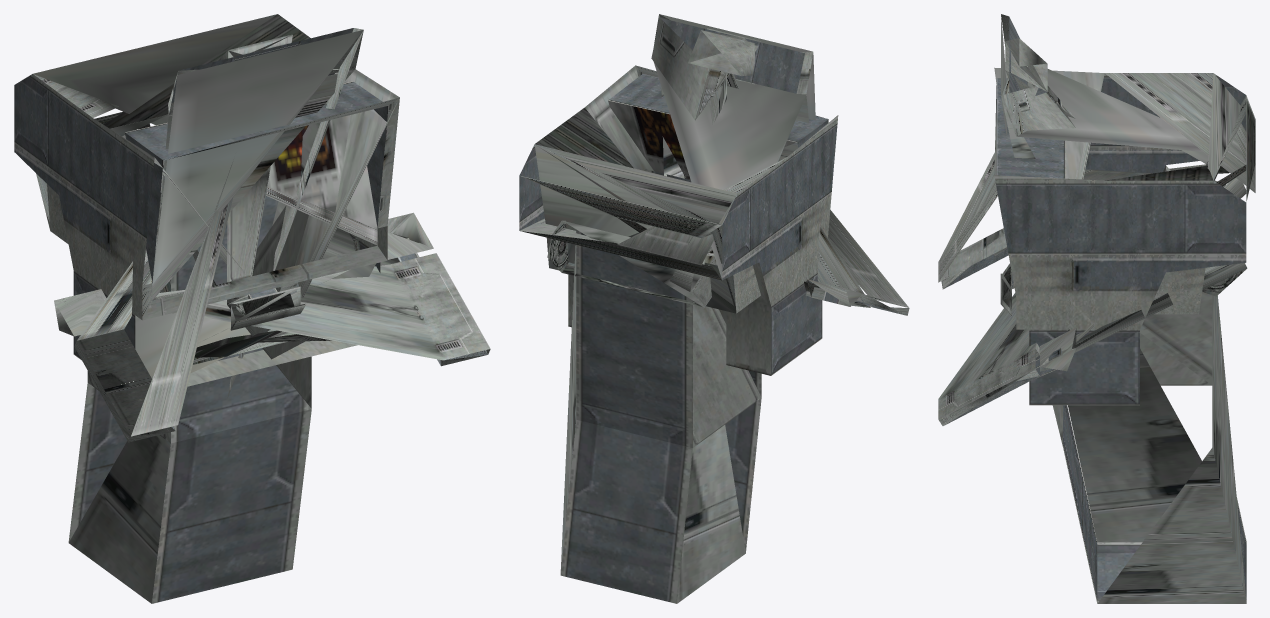
The model's file is ksk_all_travel_l1.fbx.
3 renders of one model, left to right at view 1: azimuth 30°, elevation 25°; view 2: azimuth 150°, elevation 25°; view 3: azimuth 270°, elevation 25°, orthographic. The views are drawn at different scales.
Visible parts, largest first — view 1: mesh_node; view 2: mesh_node; view 3: mesh_node.
Part boxes in pixels (<box>): mesh_node: <box>14,14,490,603</box>; mesh_node: <box>519,14,909,603</box>; mesh_node: <box>938,14,1255,603</box>.
Size of the model in its own units: 1.57 by 2.4 by 1.33.
Materials: 3 (3 with a texture image).
